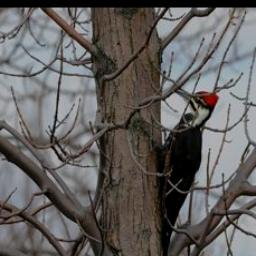Woodpecker: (153, 85, 220, 256)
